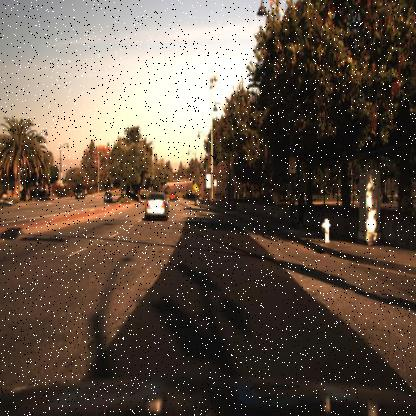car: (142, 190, 172, 224), (74, 182, 86, 203), (102, 190, 116, 204)
